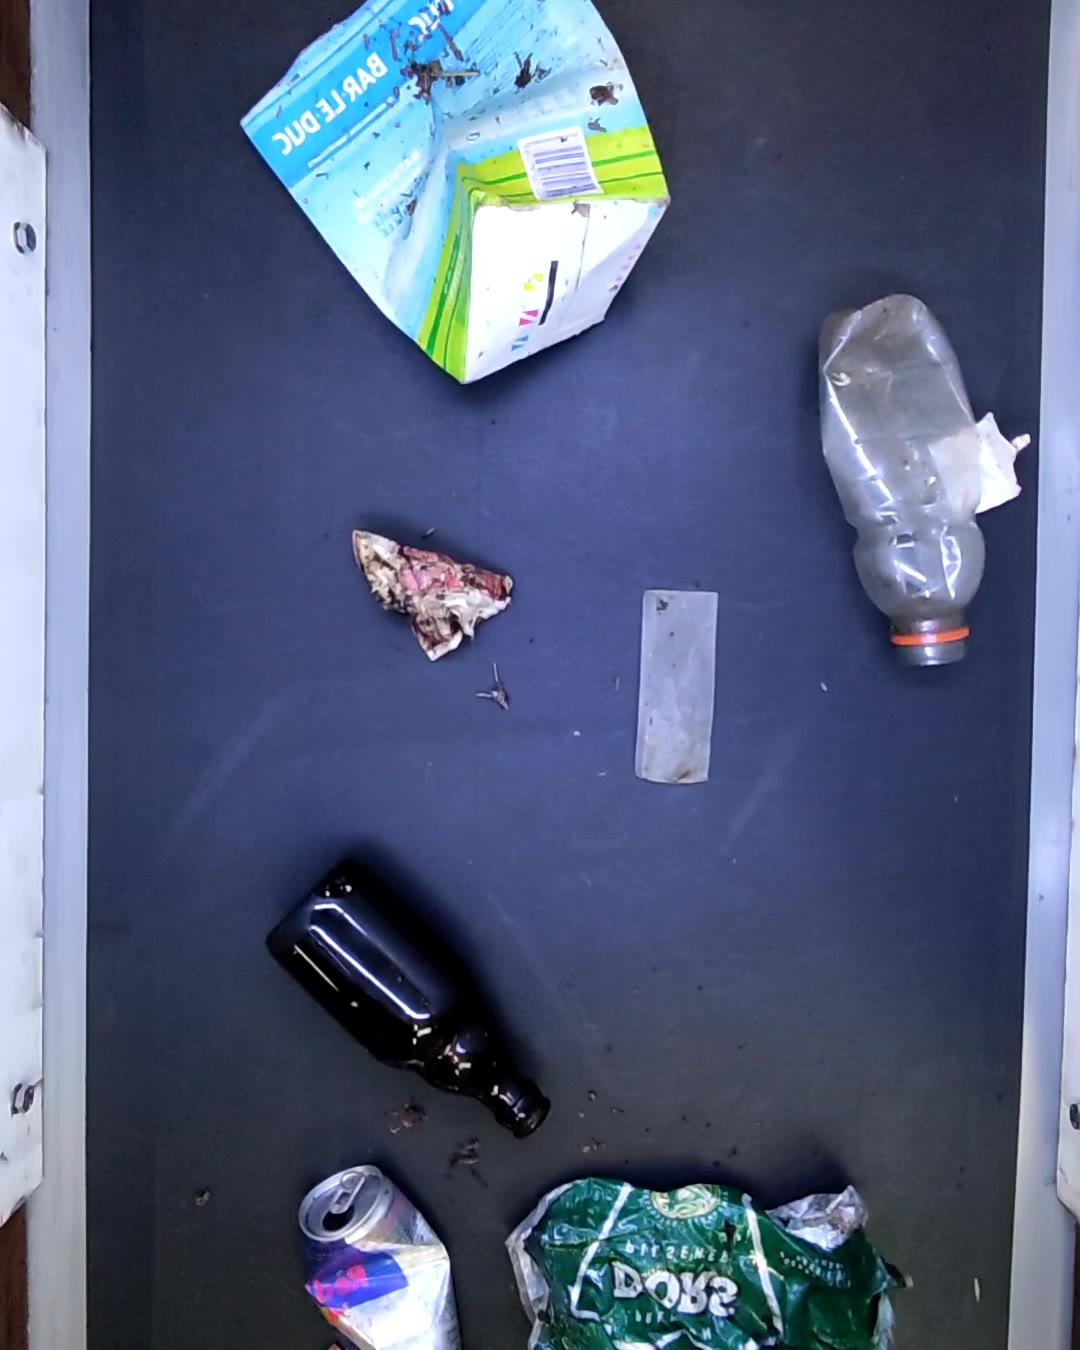Drankblikjes: (299, 1162, 453, 1350)
Drankflessen - 1-2 liter: (812, 291, 991, 671)
Plastic folies of stukken daarvan 2.5- 50 cm: (630, 584, 716, 789), (929, 403, 1033, 512)
